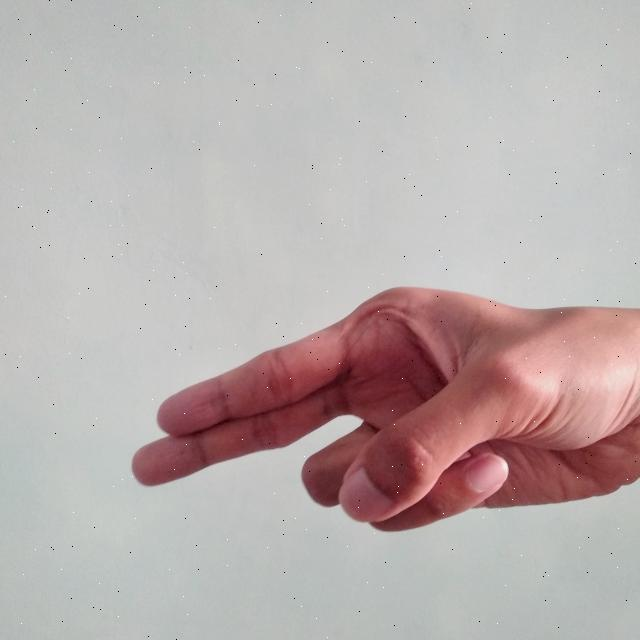H: (128, 280, 640, 536), (129, 278, 640, 534)
